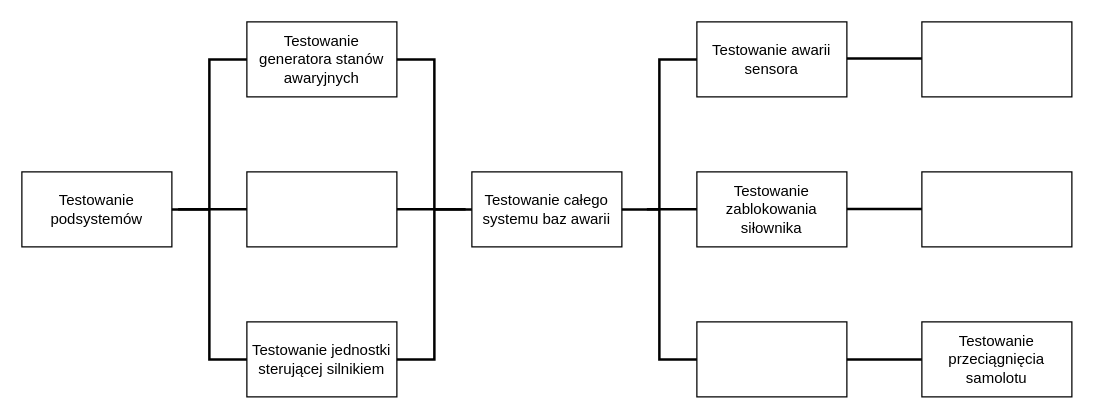
Image size: 1094x419. Some labels were removed from this diagram. Each missing label, with the centre of its shape:
"Testowanie aktualizatora stanów silnika" belongs at (321,209).
"Testowanie awarii śmigła" belongs at (996,59).
"Testowanie ryzyka oblodzenia" belongs at (996,209).
"Testowanie wessania obiektu" belongs at (771,359).
